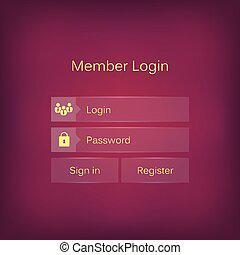button: (121, 158, 191, 185), (50, 159, 119, 185)
icon: (54, 102, 74, 117), (57, 132, 73, 149)
input: (50, 126, 192, 154), (51, 97, 192, 125)
label: (70, 58, 172, 76)
